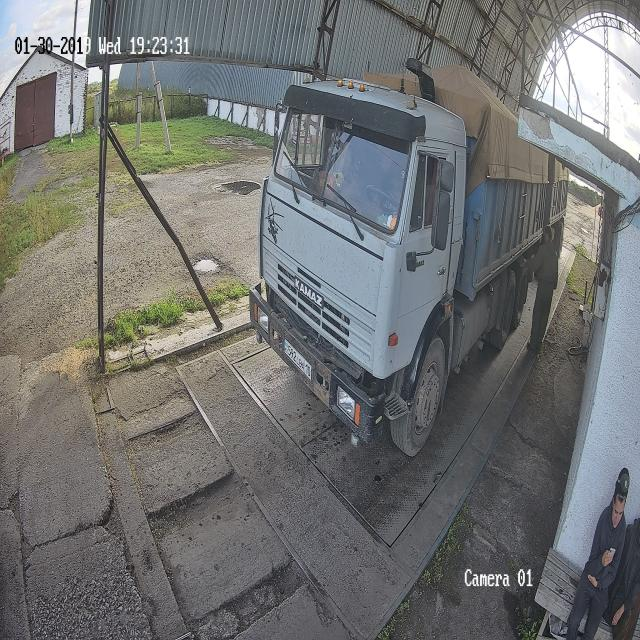license plate: (284, 339, 311, 381)
truck: (249, 59, 567, 455)
